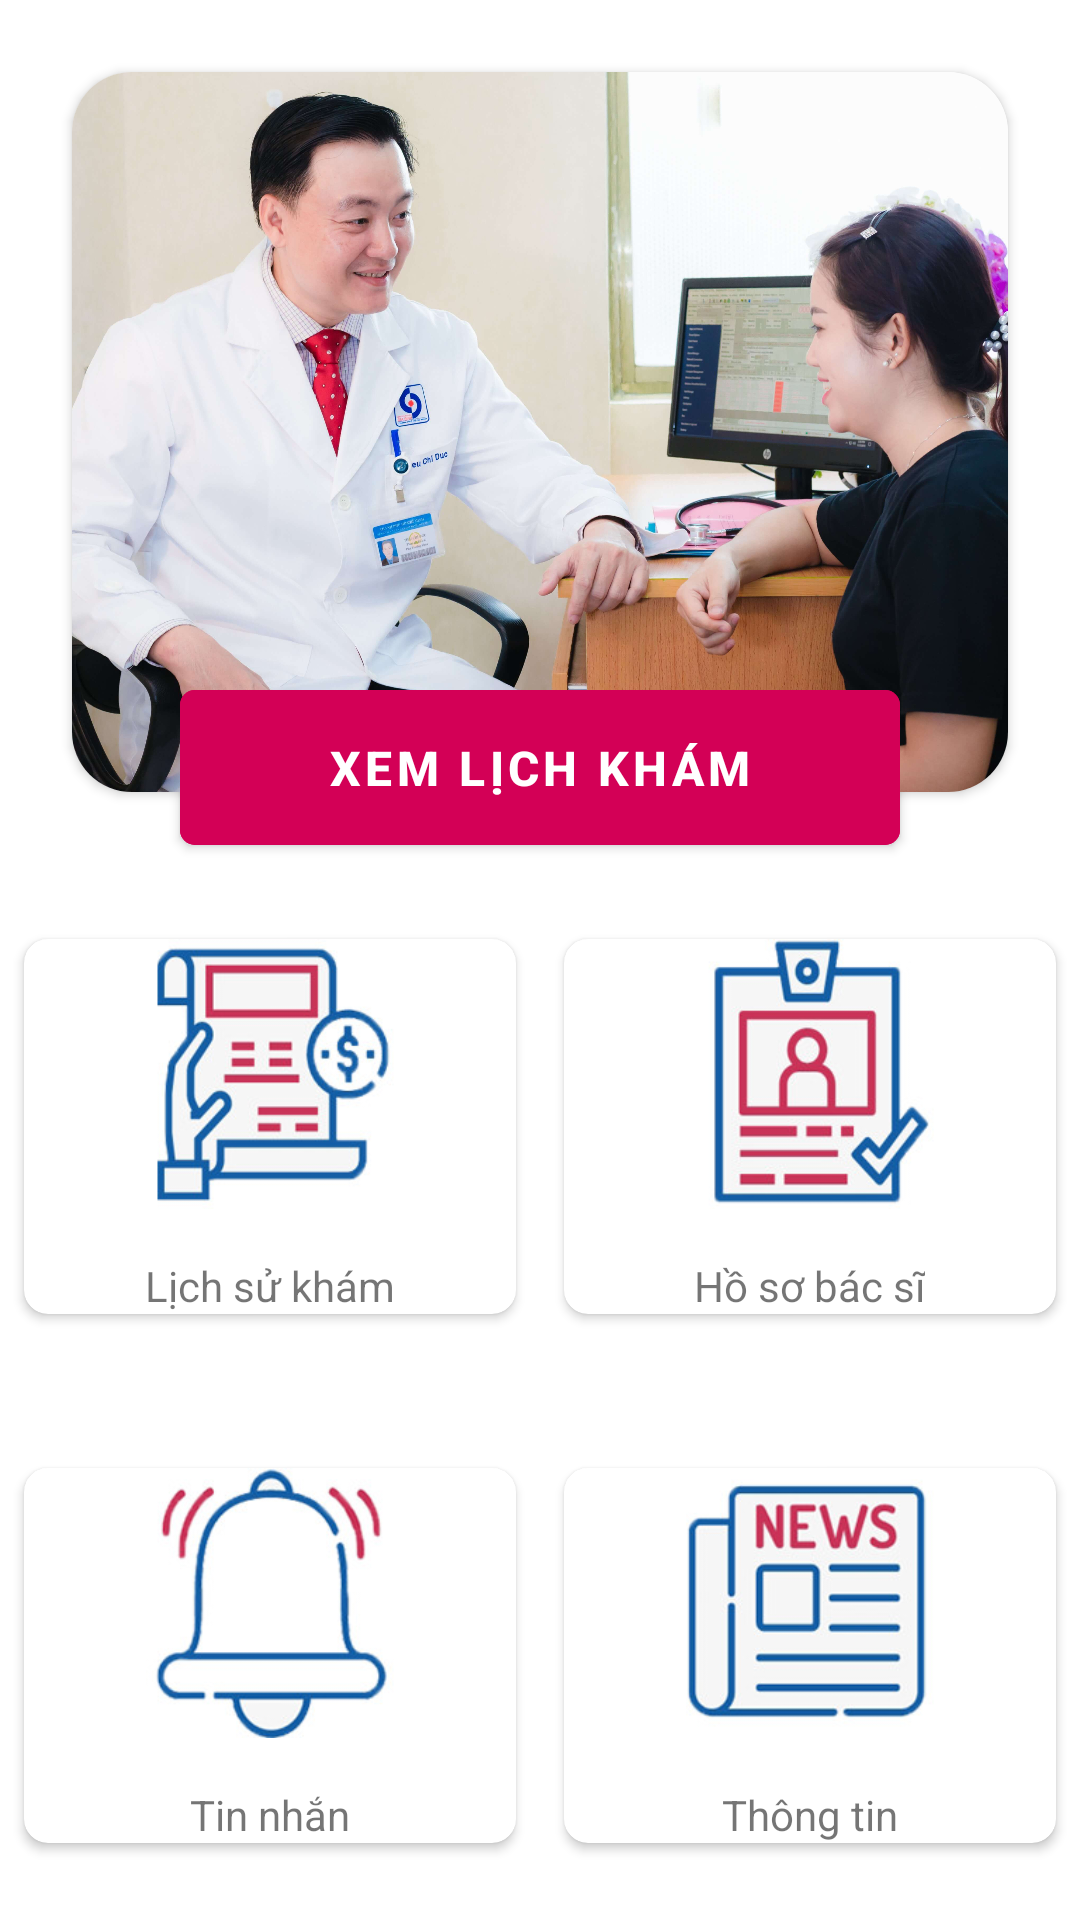

Icon bounding boxes for this 1080*1920 phone screenshot, format (x1,y1,x2,y2):
ring: (157,1469,387,1738)
tax: (157,948,389,1201)
